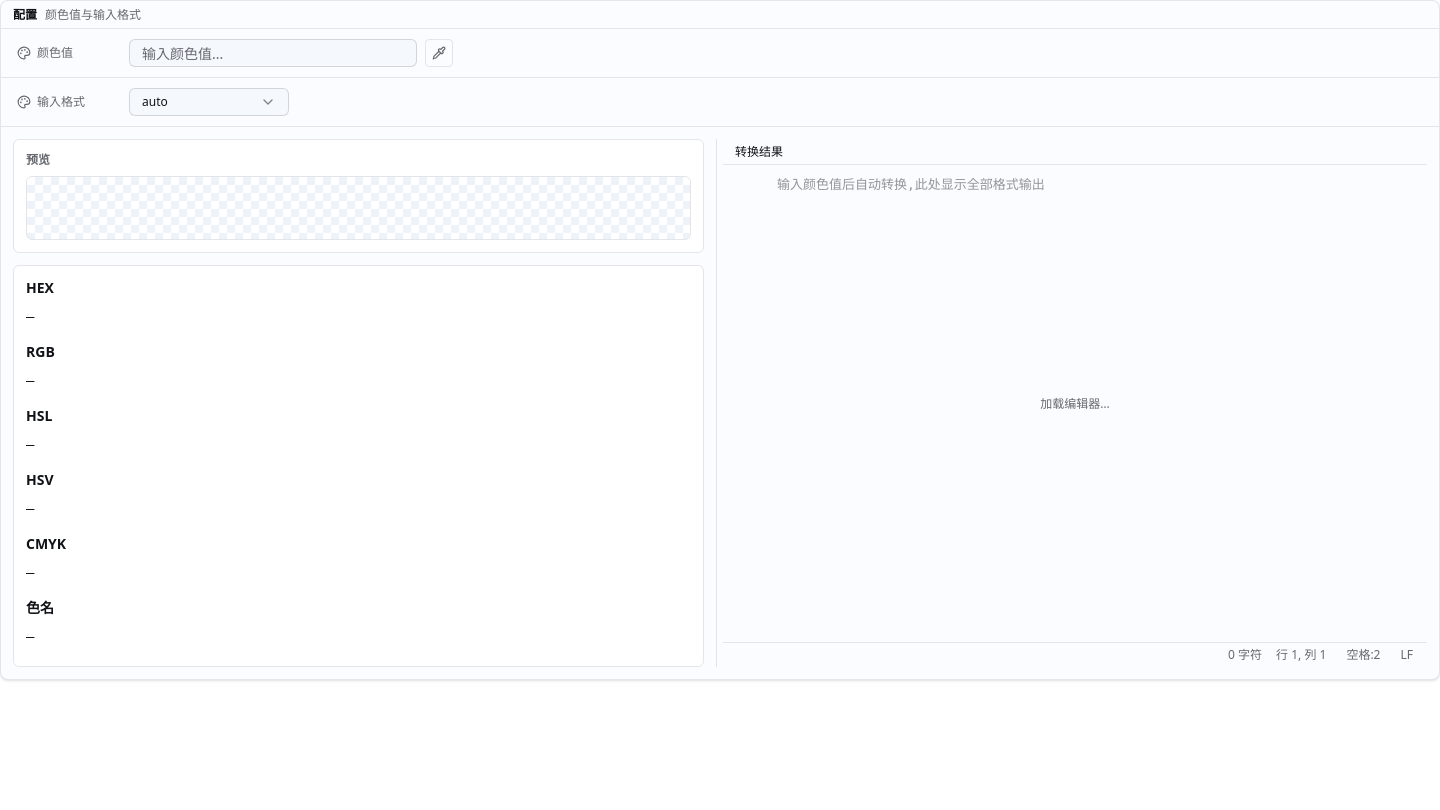
it: ColorConverter › 结果渲染 HEX/RGB/HSL/HSV/CMYK/色名行与明暗梯度
Type "#ff5733" into the field with test id "input" at (273, 53), box [129,39,417,67]
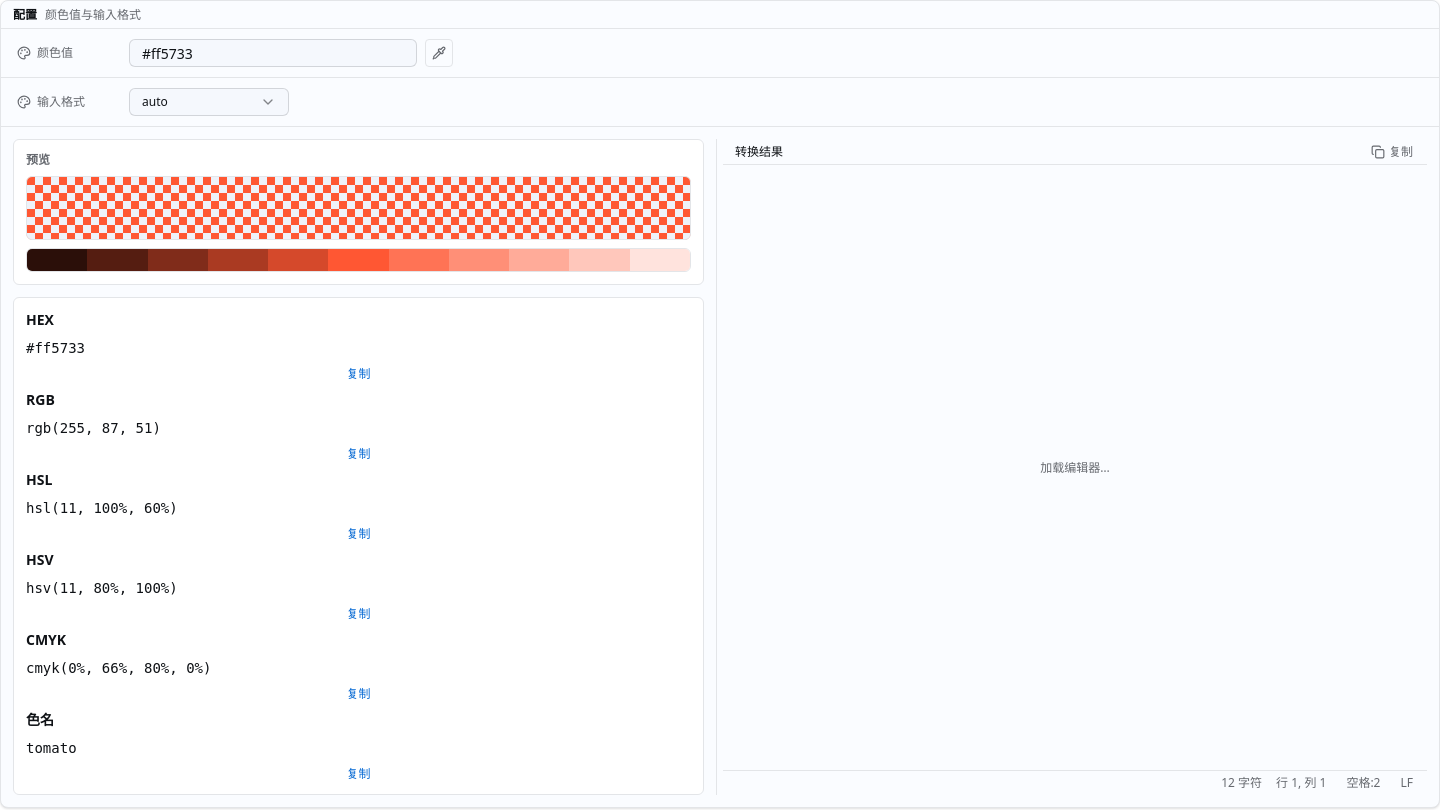
Now the text with test id "color-hsv" reads "hsv(11, 80%, 100%)", box [26,580,178,596]
Now the text with test id "color-cmyk" shows "cmyk", box [26,660,211,676]
Now the text with test id "color-name" reads "tomato", box [26,740,77,756]
